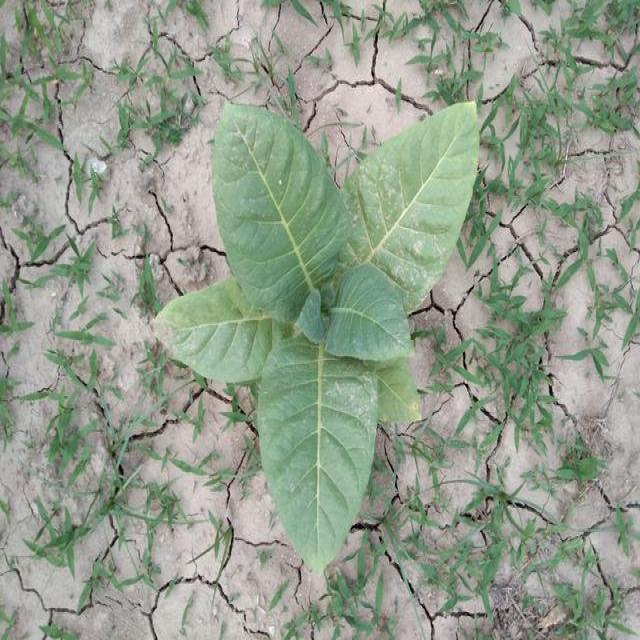crop: (182, 98, 479, 550)
